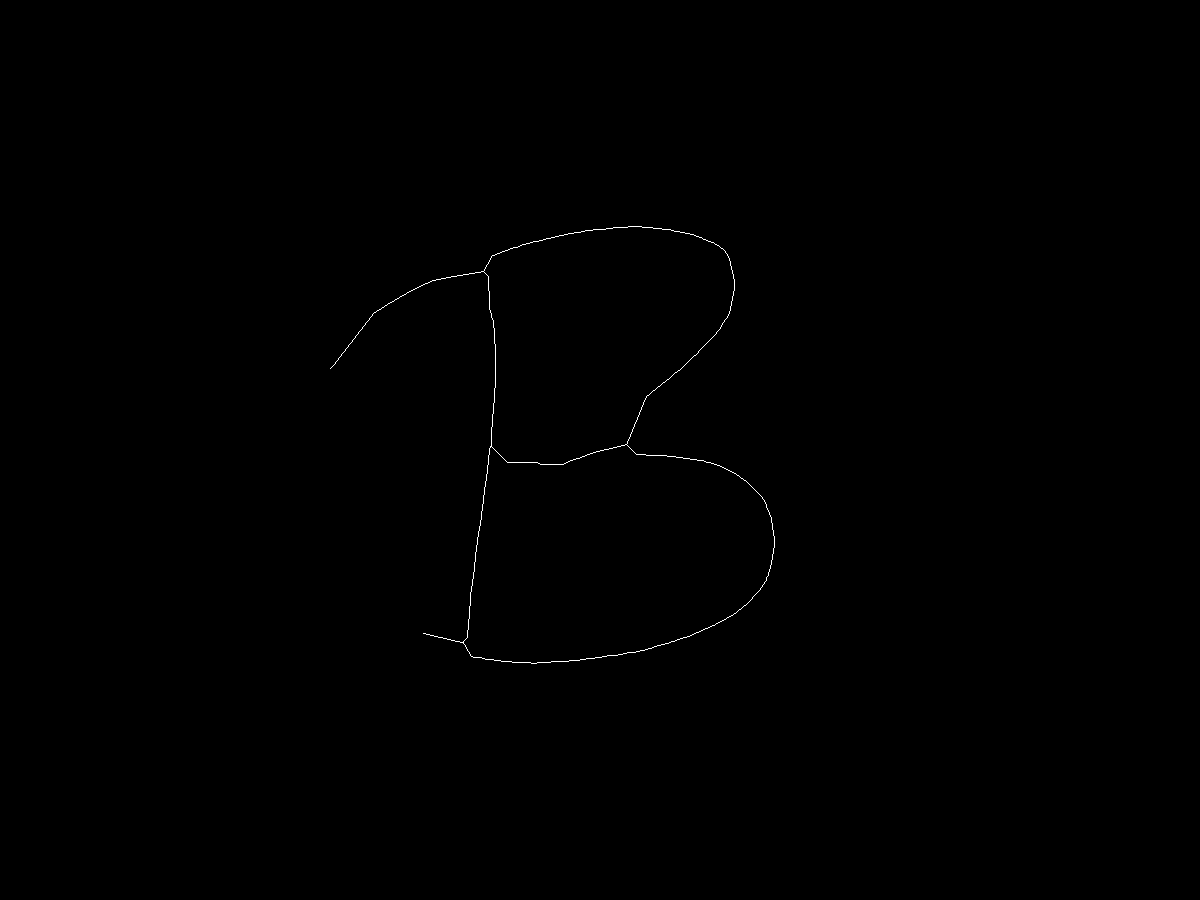dian1: (471, 262, 497, 288)
dian2: (480, 440, 499, 459)
dian3: (460, 635, 481, 656)
dian4: (613, 437, 634, 458)
